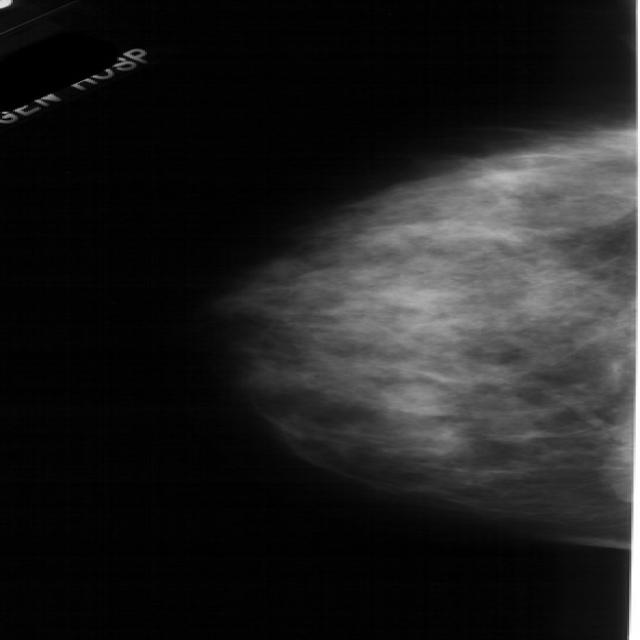tumour: (376, 380, 454, 416)
